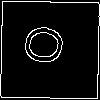O: (24, 25, 71, 65)
